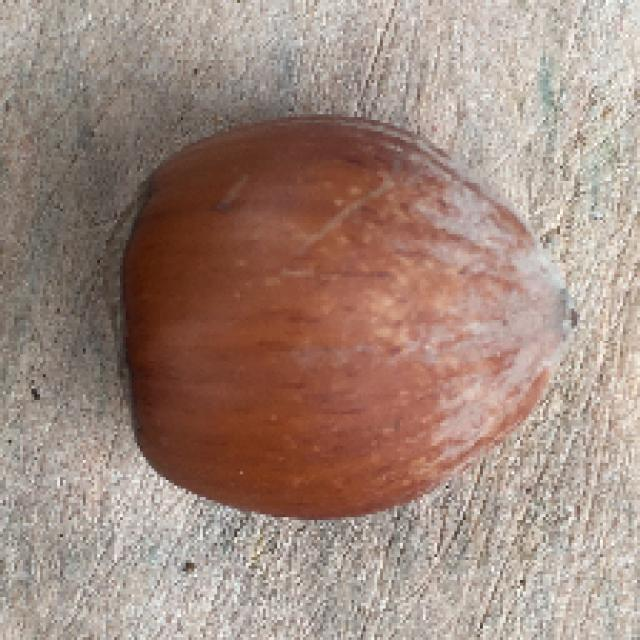qualityHazelnut: (97, 113, 581, 520)
